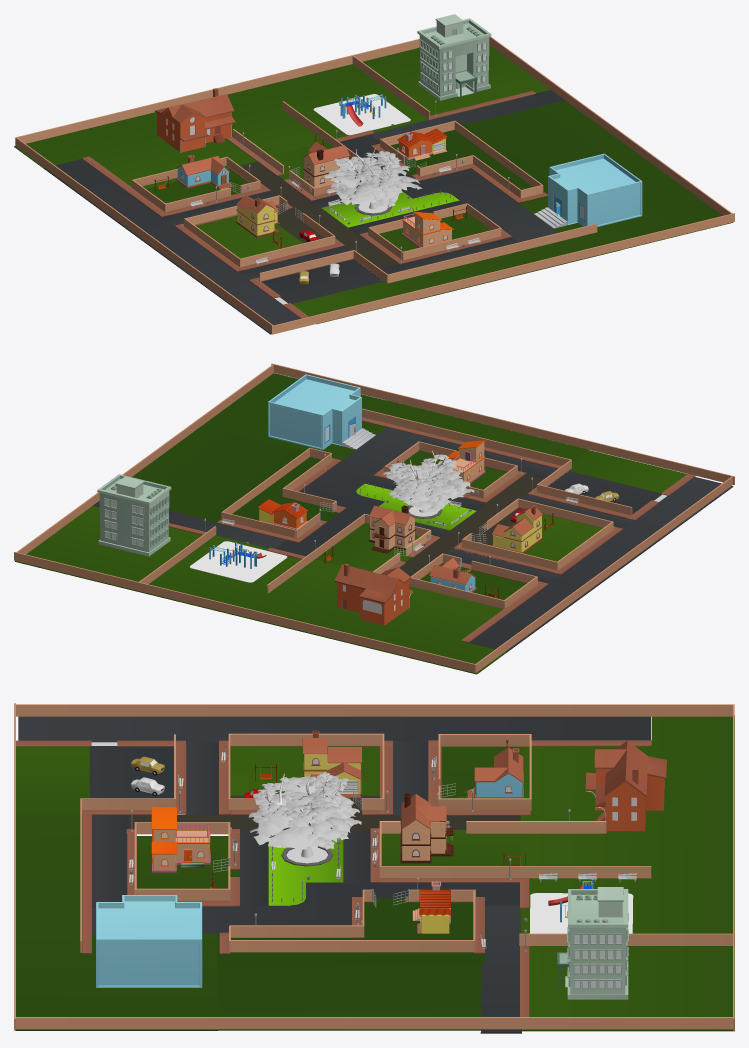
Rendered from samet ev .fbx.
3 renders of one model, top to bottom at view 1: azimuth 30°, elevation 25°; view 2: azimuth 150°, elevation 25°; view 3: azimuth 270°, elevation 25°, orthographic. The views are drawn at different scales.
Parts seen in each view (by area): view 1: Cube.053, Cube.057, Cube.111, ca, Cube.058, Hospital, Cube.067, Cube.125, Cube.114, Cylinder.011, Cube.059, Cube.069 (+36 smaller); view 2: Cube.053, Cube.057, Cube.111, ca, Cube.067, Hospital, Cube.114, Cube.058, Cube.125, Cylinder.011, Cube.126, Cube.059 (+37 smaller); view 3: Cube.053, Cube.057, Cube.111, Cube.058, ca, Cube.126, Cube.127, Cube.059, Cube.067, Cylinder.011, Hospital, Cube.060 (+50 smaller).
Boxes of the visible parts, <box> form: Cube.053: <box>14,45,550,188</box>; Cube.057: <box>377,100,659,203</box>; Cube.111: <box>44,159,300,334</box>; ca: <box>548,153,642,226</box>; Cube.058: <box>519,169,732,249</box>; Hospital: <box>417,14,491,100</box>; Cube.067: <box>340,134,558,242</box>; Cube.125: <box>271,213,734,334</box>; Cube.114: <box>15,39,419,143</box>; Cylinder.011: <box>324,151,422,207</box>; Cube.059: <box>394,239,621,299</box>; Cube.069: <box>240,161,398,268</box>; Cube.053: <box>15,506,506,674</box>; Cube.057: <box>132,426,343,543</box>; Cube.111: <box>469,477,733,652</box>; ca: <box>268,374,361,449</box>; Cube.067: <box>275,427,426,556</box>; Hospital: <box>97,474,171,556</box>; Cube.114: <box>14,552,475,672</box>; Cube.058: <box>202,373,413,460</box>; Cube.125: <box>271,363,734,484</box>; Cylinder.011: <box>383,454,474,512</box>; Cube.126: <box>474,476,733,673</box>; Cube.059: <box>385,400,588,461</box>; Cube.053: <box>520,715,734,1031</box>; Cube.057: <box>217,898,485,1030</box>; Cube.111: <box>18,716,650,742</box>; Cube.058: <box>15,933,217,1030</box>; ca: <box>96,895,202,987</box>; Cube.126: <box>15,704,734,716</box>; Cube.127: <box>14,1017,732,1029</box>; Cube.059: <box>16,815,89,954</box>; Cube.067: <box>92,882,519,933</box>; Cylinder.011: <box>248,772,361,849</box>; Hospital: <box>559,887,628,999</box>; Cube.060: <box>16,746,89,814</box>.
Bounding box in the file's own units: 7959 × 1047 × 7643.
